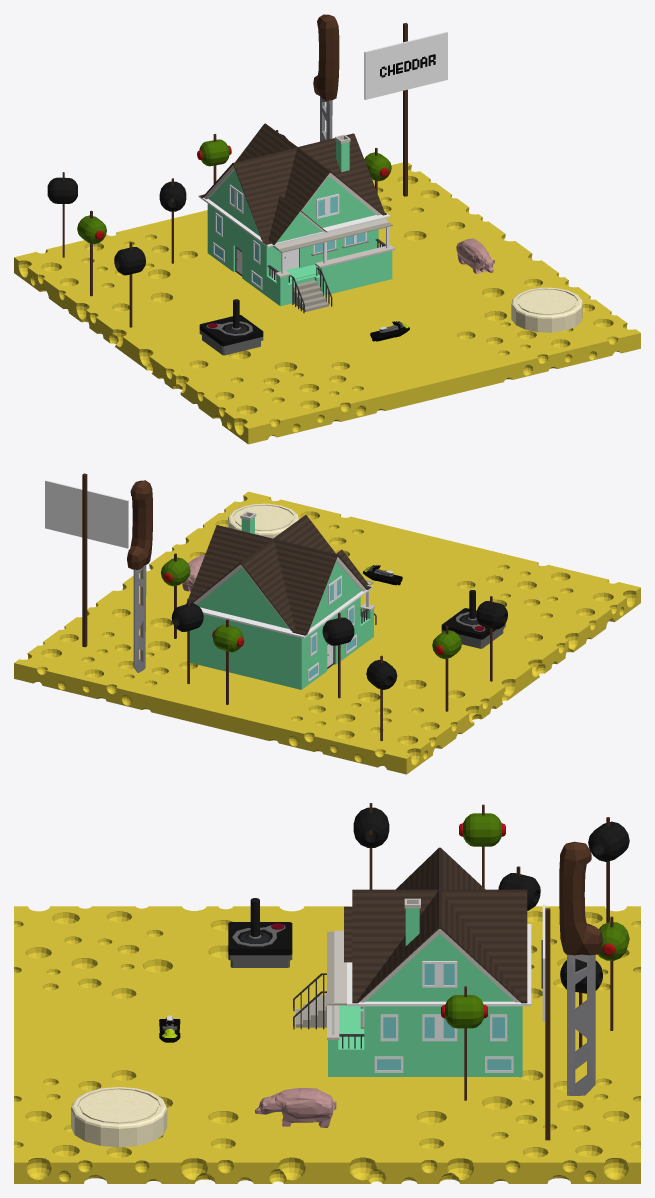
3 views of the same model, one above another, from view 1: azimuth 30°, elevation 25°; view 2: azimuth 150°, elevation 25°; view 3: azimuth 270°, elevation 25° (orthographic). The views are drawn at different scales.
Parts seen in each view (by area): view 1: Cube.022, Cube.352, Cube.023, Cylinder.016, Cube.024, OBJRANDOM_JOYSTICK, Sphere.017, ANIMAL_HIPOPOTAMO, Sphere.016, Sphere.020, Sphere.018, Sphere.022 (+1 smaller); view 2: Cube.022, Cube.352, Cube.023, Cube.024, Cylinder.016, OBJRANDOM_JOYSTICK, Sphere.017, Sphere.020, Sphere.021, Sphere.016, Sphere.018, Sphere.022 (+2 smaller); view 3: Cube.022, Cube.352, Cube.024, Cylinder.016, OBJRANDOM_JOYSTICK, ANIMAL_HIPOPOTAMO, Cube.023, Sphere.019, Sphere.016, Sphere.018, Sphere.017, Sphere.022 (+2 smaller).
Part boxes in pixels (box(x1,y1,x2,y2)): Cube.022: box(14, 162, 640, 444); Cube.352: box(198, 123, 395, 313); Cube.023: box(364, 23, 447, 196); Cylinder.016: box(511, 287, 582, 332); Cube.024: box(313, 14, 339, 141); OBJRANDOM_JOYSTICK: box(199, 299, 263, 355); Sphere.017: box(114, 242, 145, 327); ANIMAL_HIPOPOTAMO: box(456, 238, 494, 273); Sphere.016: box(47, 172, 77, 257); Sphere.020: box(159, 178, 186, 263); Sphere.018: box(77, 210, 106, 296); Sphere.022: box(197, 134, 231, 183); Cube.022: box(14, 491, 640, 774); Cube.352: box(185, 511, 376, 689); Cube.023: box(45, 473, 128, 647); Cube.024: box(127, 480, 152, 672); Cylinder.016: box(228, 503, 298, 538); OBJRANDOM_JOYSTICK: box(441, 590, 505, 648); Sphere.017: box(476, 596, 507, 681); Sphere.020: box(322, 612, 354, 698); Sphere.021: box(171, 598, 203, 683); Sphere.016: box(366, 655, 397, 741); Sphere.018: box(432, 626, 461, 711); Sphere.022: box(212, 619, 244, 704); Cube.022: box(14, 906, 640, 1183); Cube.352: box(293, 847, 531, 1076); Cube.024: box(559, 841, 602, 1095); Cylinder.016: box(71, 1086, 167, 1147); OBJRANDOM_JOYSTICK: box(228, 898, 292, 967); ANIMAL_HIPOPOTAMO: box(255, 1088, 336, 1127); Cube.023: box(541, 904, 550, 1140); Sphere.019: box(441, 986, 487, 1100); Sphere.016: box(588, 817, 629, 922); Sphere.018: box(459, 804, 505, 887); Sphere.017: box(353, 803, 389, 889); Sphere.022: box(598, 916, 629, 1030).
Bounding box in the file's own units: 3917 × 2010 × 4000.
Materials: 35 (3 with a texture image).
